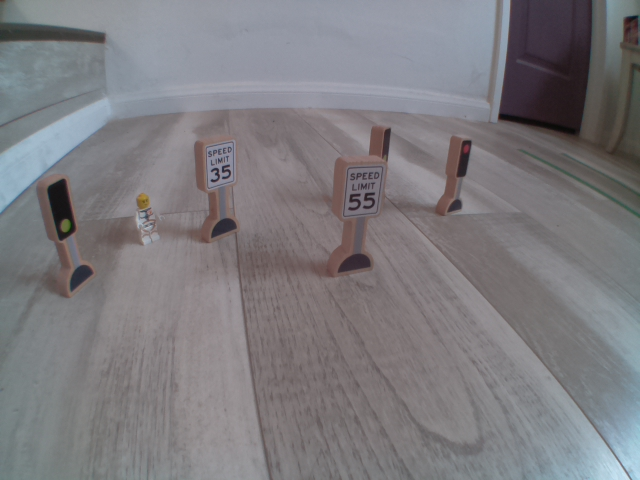Green Traffic Light: (38, 174, 82, 242)
Red Traffic Light: (454, 137, 474, 181)
Speed Limit 35: (200, 142, 239, 190)
Speed Limit 55: (340, 161, 381, 217)
person: (129, 189, 166, 247)
